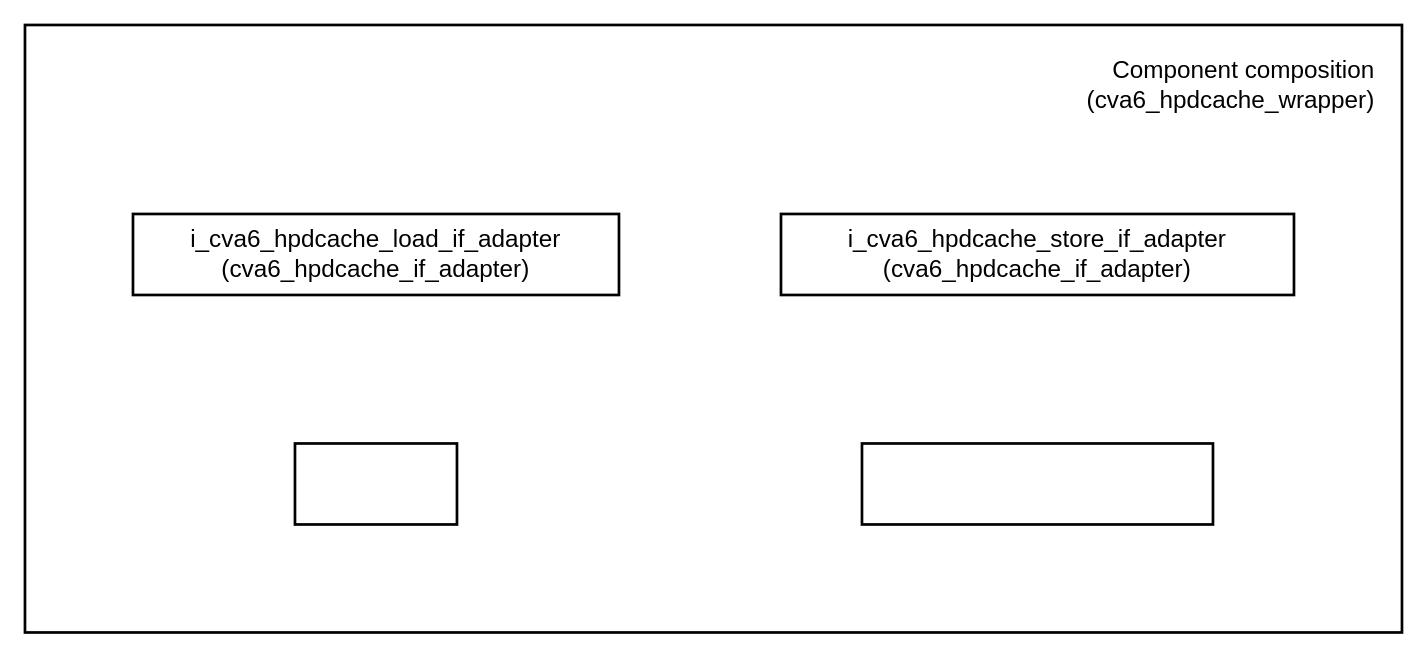
Image size: 1426x656. Some labels were removed from this diagram. Here are the shapes that lost their labels. From the top down, the centre of each, then its label:
At [375,483]: "i_hpdcache (hpdcache)".
At [1037,483]: "i_hwpf_stride_wrapper (hwpf_stride_wrapper)".
